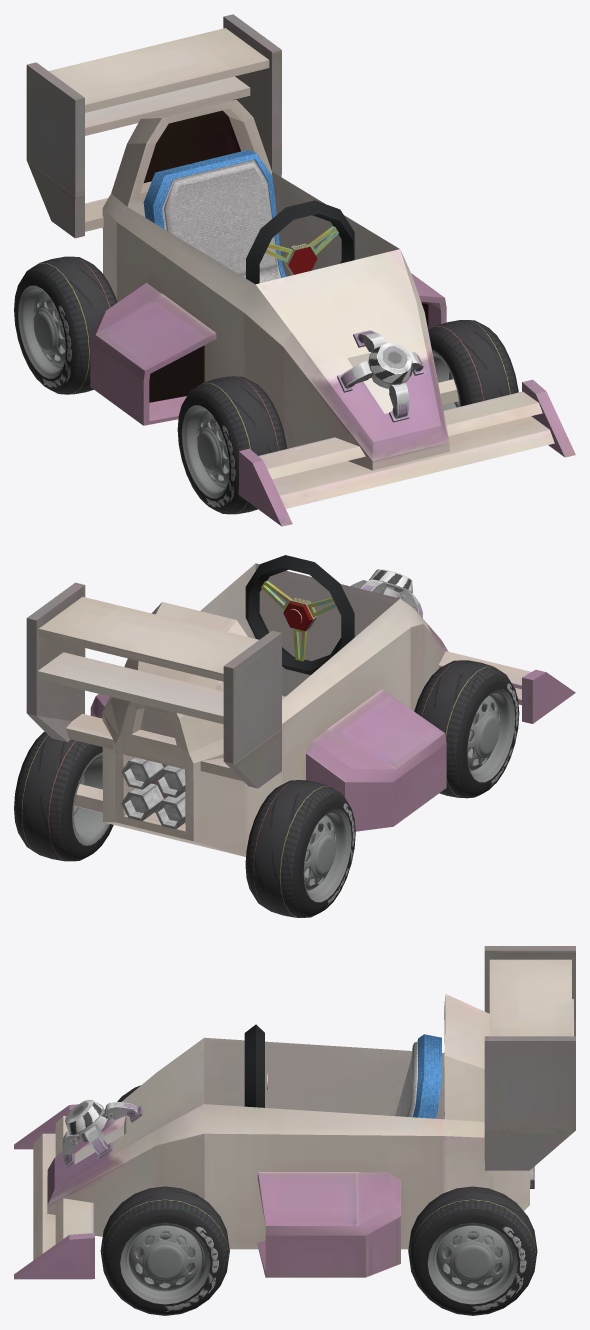
The model's file is 03-Formula-Stock-White.glb.
3 views of the same model, one above another, from view 1: azimuth 30°, elevation 25°; view 2: azimuth 150°, elevation 25°; view 3: azimuth 270°, elevation 25° (orthographic). The views are drawn at different scales.
Visible parts, largest first — view 1: Formula.001, Tire (×3), Regular, Aero (×2), Torus, Weapon_Mount.1-Default_OBJ_3, INT_WHEEL_005; view 2: Formula.001, Tire (×3), Aero (×3), Torus, Engine_007, INT_WHEEL_005, Weapon_Mount.1-Default_OBJ_3; view 3: Formula.001, Tire (×2), Aero (×2), Regular, Torus, Weapon_Mount.1-Default_OBJ_3, arm1.3-Default_OBJ_3.
Boxes of the visible parts, x1,y1,x2,y2 form: Formula.001: (26, 14, 575, 526); Tire (×3): (14, 256, 518, 514); Regular: (143, 150, 286, 282); Aero (×2): (18, 285, 229, 498); Torus: (246, 200, 354, 284); Weapon_Mount.1-Default_OBJ_3: (368, 343, 412, 388); INT_WHEEL_005: (265, 226, 338, 274); Formula.001: (26, 563, 575, 856); Tire (×3): (14, 660, 519, 917); Aero (×3): (72, 689, 515, 902); Torus: (245, 555, 354, 674); Engine_007: (121, 757, 185, 829); INT_WHEEL_005: (261, 580, 336, 661); Weapon_Mount.1-Default_OBJ_3: (369, 569, 412, 597); Formula.001: (14, 946, 575, 1279); Tire (×2): (100, 1186, 537, 1315); Aero (×2): (120, 1222, 517, 1304); Regular: (395, 1034, 441, 1118); Torus: (244, 1024, 264, 1107); Weapon_Mount.1-Default_OBJ_3: (65, 1099, 107, 1142); arm1.3-Default_OBJ_3: (105, 1101, 138, 1119).
Size of the model in its own units: 5.16 by 4.56 by 8.82.
8 materials, 8 textured.
